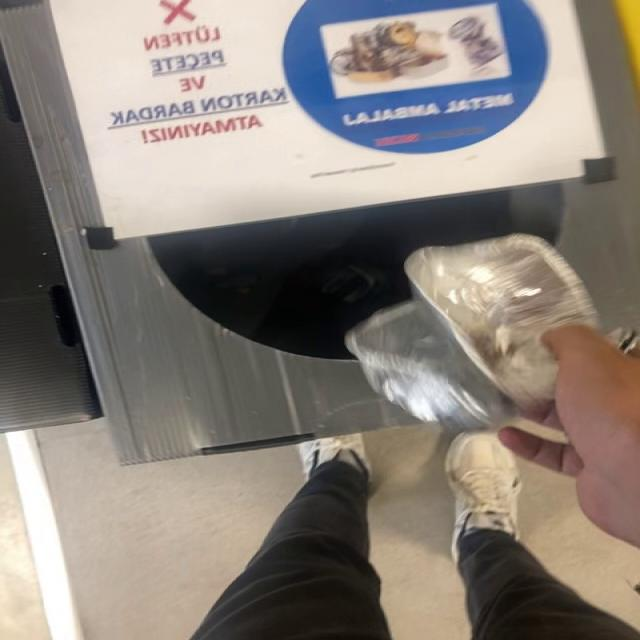metal: (345, 234, 599, 430)
